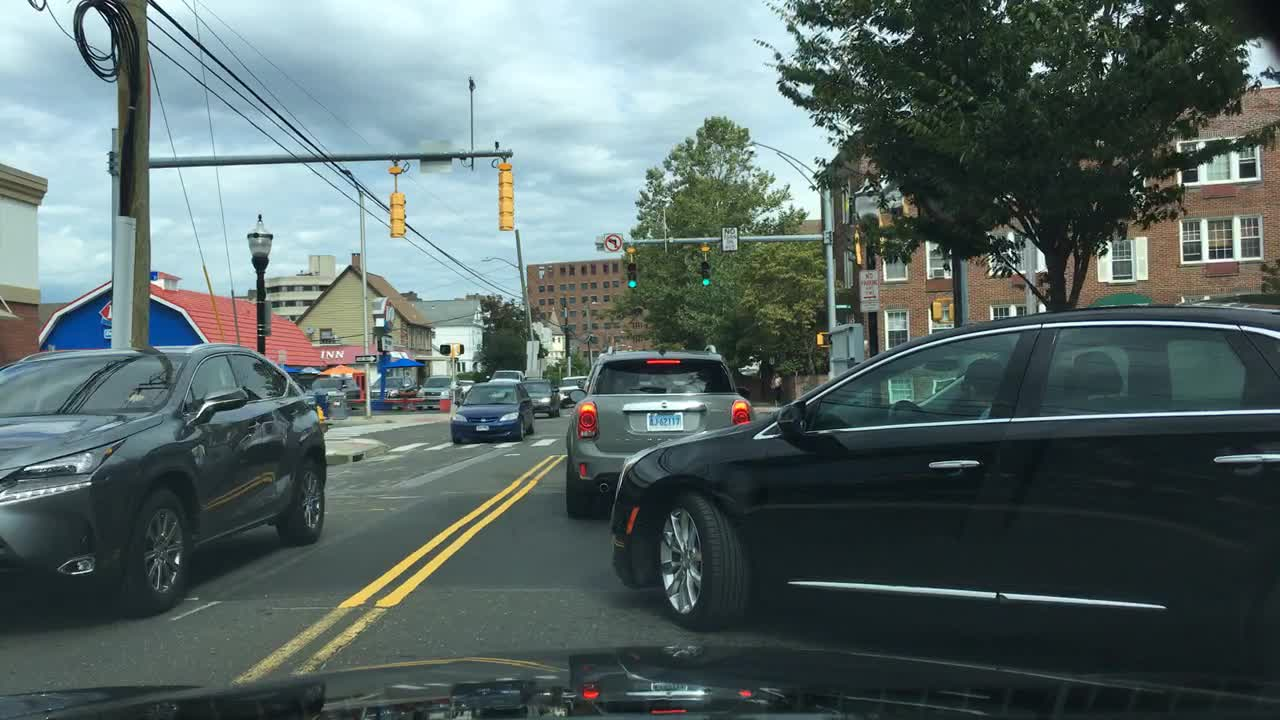car: (609, 292, 1279, 685), (0, 341, 325, 617), (563, 341, 754, 521), (449, 381, 535, 447), (415, 373, 459, 413), (309, 376, 363, 408), (521, 376, 558, 418), (363, 376, 420, 396), (555, 374, 592, 401), (486, 368, 525, 385), (455, 378, 477, 393)
person: (766, 369, 786, 408)
traffic light: (494, 164, 514, 231), (860, 224, 881, 272), (388, 191, 403, 239), (843, 226, 860, 266), (698, 256, 712, 287), (624, 260, 638, 290), (926, 300, 941, 322), (945, 300, 957, 320), (813, 331, 827, 347), (438, 342, 449, 356), (454, 341, 464, 354)
traffic sign: (417, 138, 452, 175), (857, 275, 879, 314), (523, 336, 538, 369), (719, 226, 737, 251), (600, 233, 621, 253), (352, 353, 376, 364), (832, 300, 850, 310)
